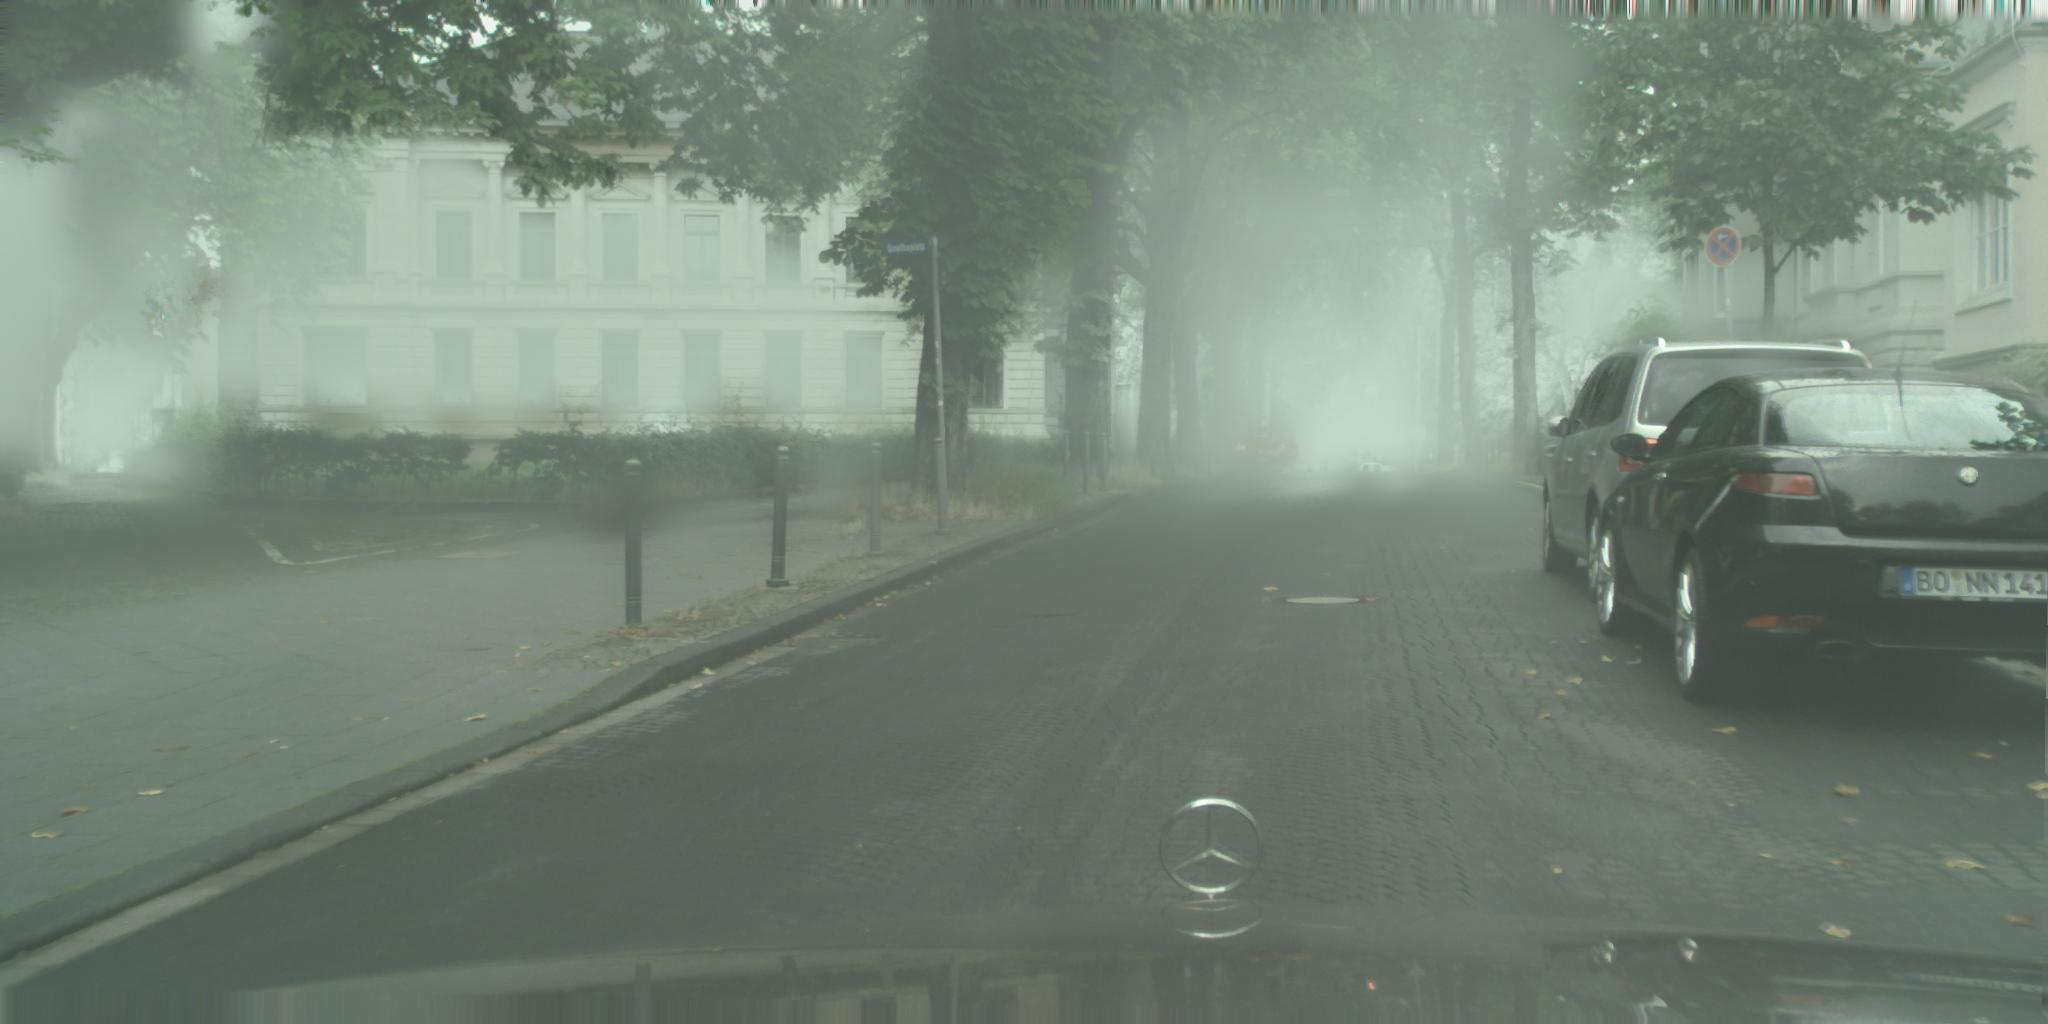car: (1595, 298, 2048, 707), (1541, 336, 1893, 606), (1230, 424, 1301, 475), (1543, 445, 1562, 462), (1357, 462, 1384, 472)
